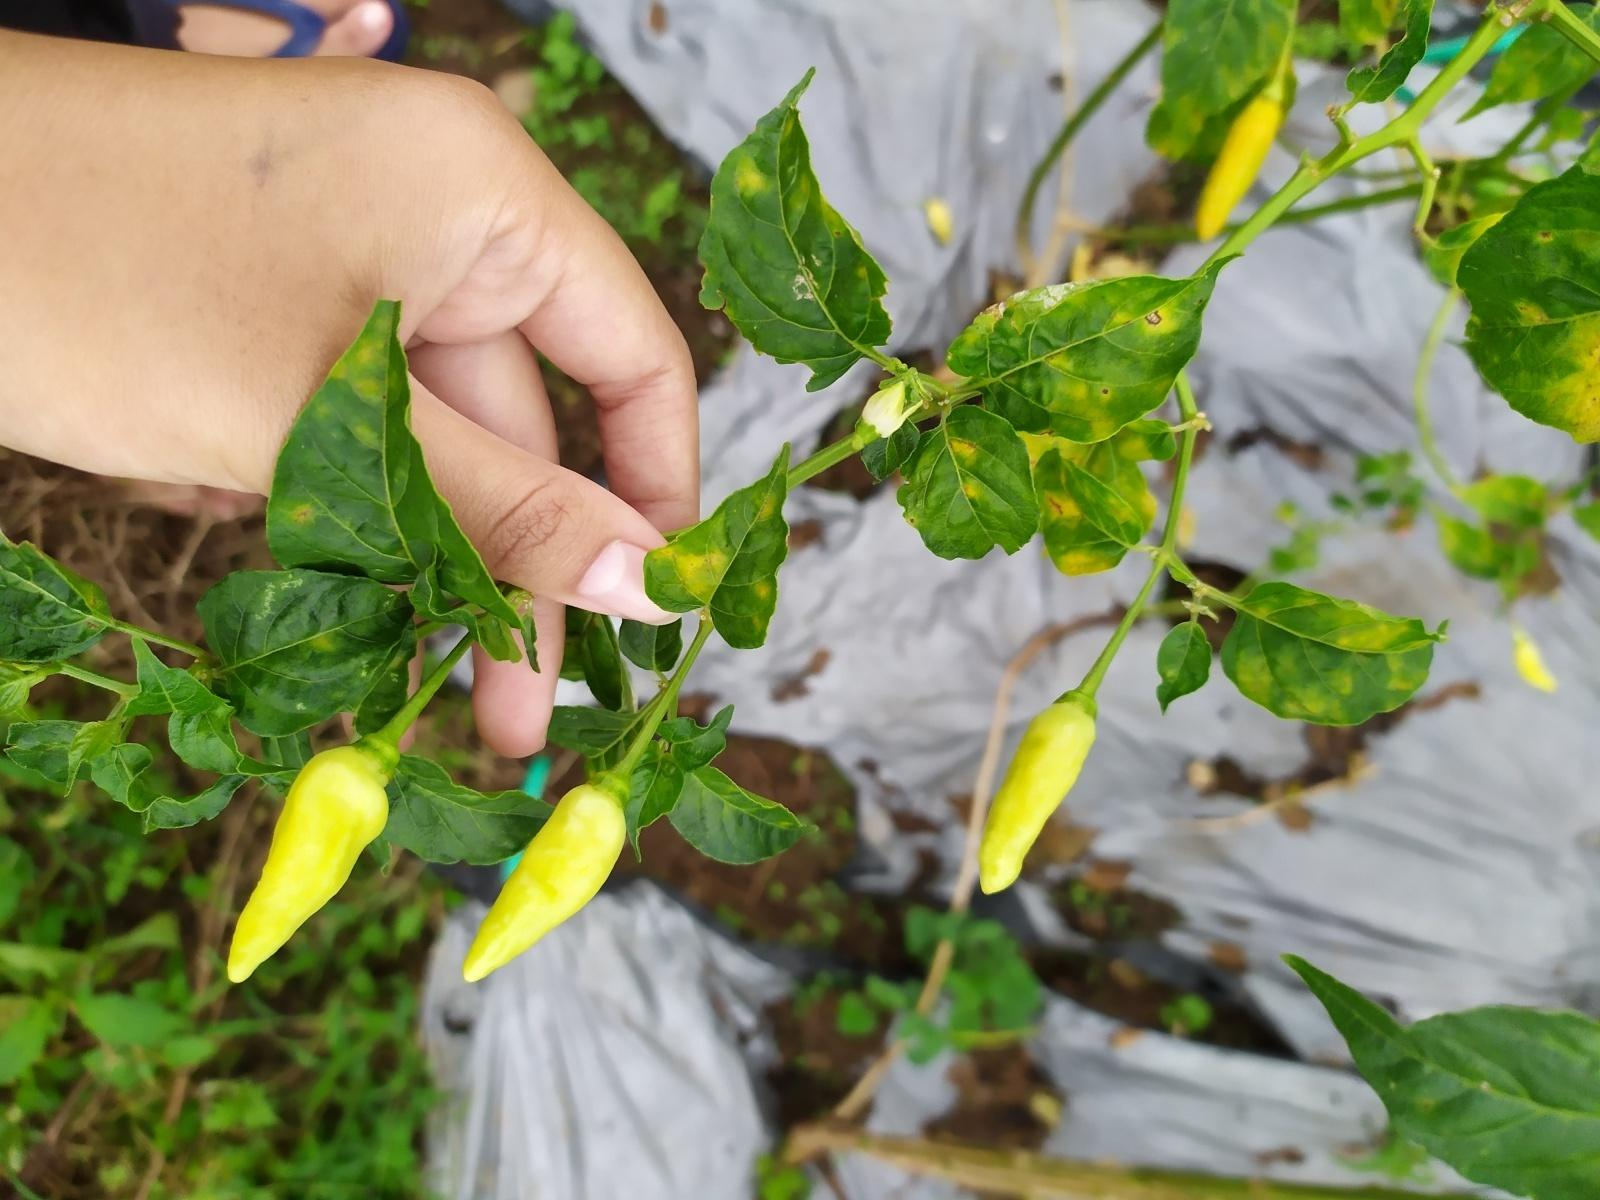cabai_normal: (227, 744, 391, 982), (461, 784, 625, 984), (979, 693, 1095, 894), (1192, 95, 1286, 245)
